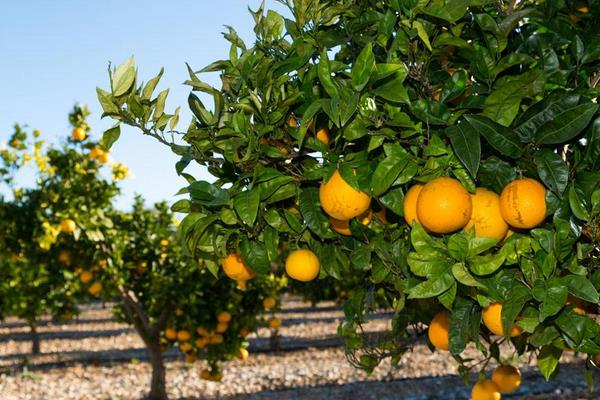orange: (416, 174, 472, 235), (455, 186, 509, 249), (321, 165, 371, 221), (500, 177, 548, 228), (428, 307, 470, 352), (480, 294, 518, 337), (403, 184, 436, 230), (220, 247, 257, 280), (285, 249, 322, 282), (493, 365, 521, 393), (472, 378, 503, 400)
